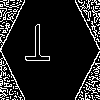T: (25, 25, 51, 70)
